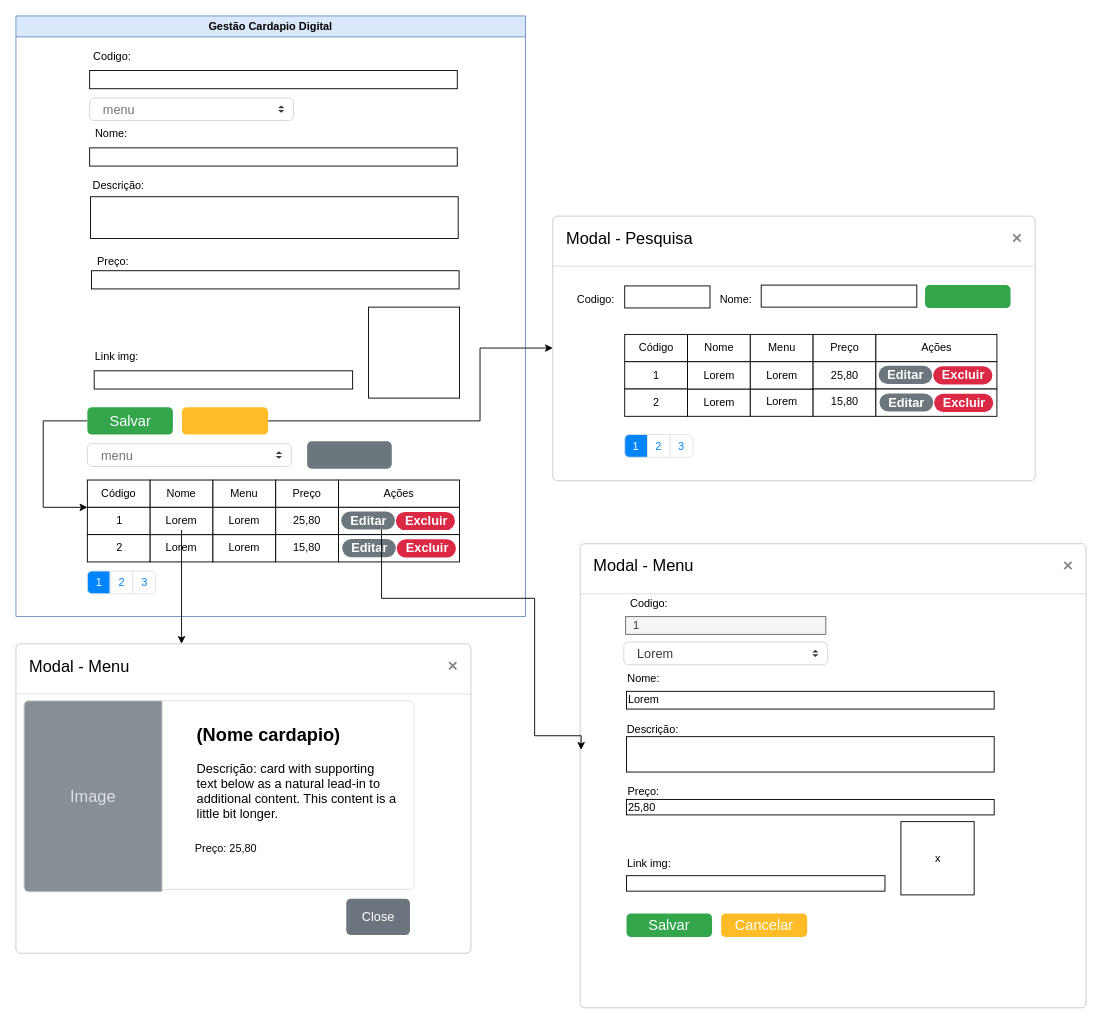
Image size: 1102x1024. Some labels were removed from this diagram. Each missing label, with the centre of its shape:
Buscar: the point at 967,296
Filtrar: the point at 349,454
loccs.sas.saf: the point at 755,883
Lorrewef fsdmfs msdfsfs sdfsfsfs: the point at 810,754
Pesquisar: the point at 225,420
